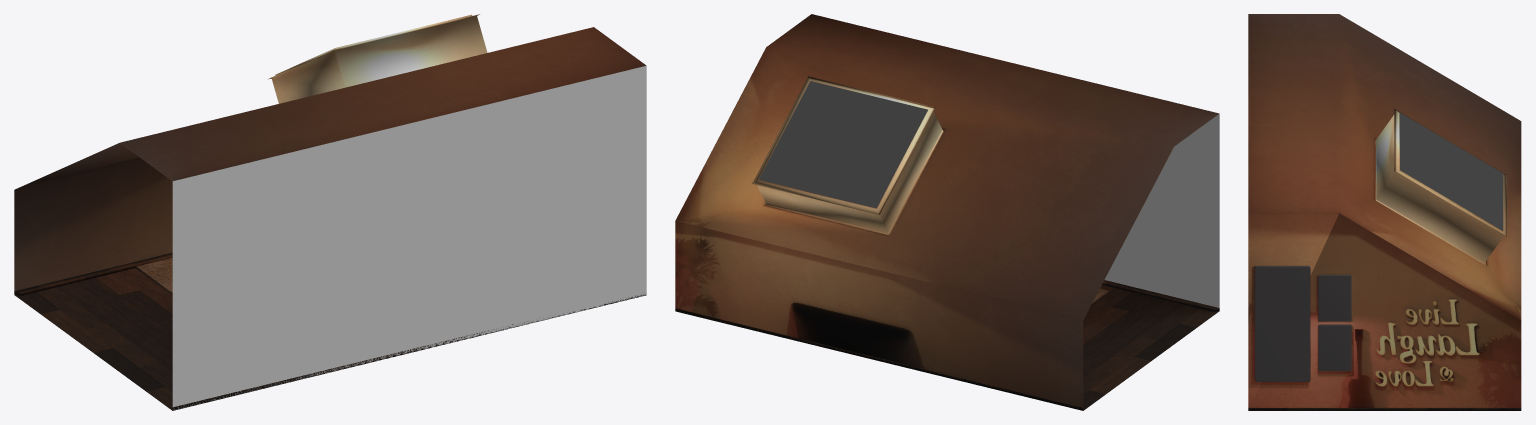
File: LoftBedroomLatest.fbx
3 views of the same model, side by side, from view 1: azimuth 30°, elevation 25°; view 2: azimuth 150°, elevation 25°; view 3: azimuth 270°, elevation 25° (orthographic). The views are drawn at different scales.
Visible parts, largest first — view 1: LoftBedroom; view 2: LoftBedroom; view 3: LoftBedroom, Wall.
Part boxes in pixels (box(x1,y1,x2,y2)): LoftBedroom: box(14, 14, 646, 410); LoftBedroom: box(675, 14, 1219, 410); LoftBedroom: box(1248, 14, 1521, 410); Wall: box(1249, 213, 1521, 410).
Bounding box in the file's own units: 2901 × 1399 × 1676.
